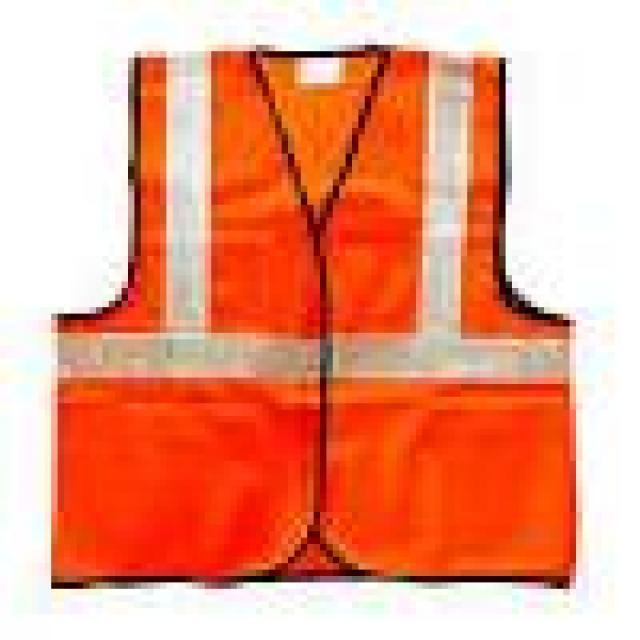reflective_jacket: (18, 6, 627, 601)
safety_helmet: (179, 0, 511, 64)
